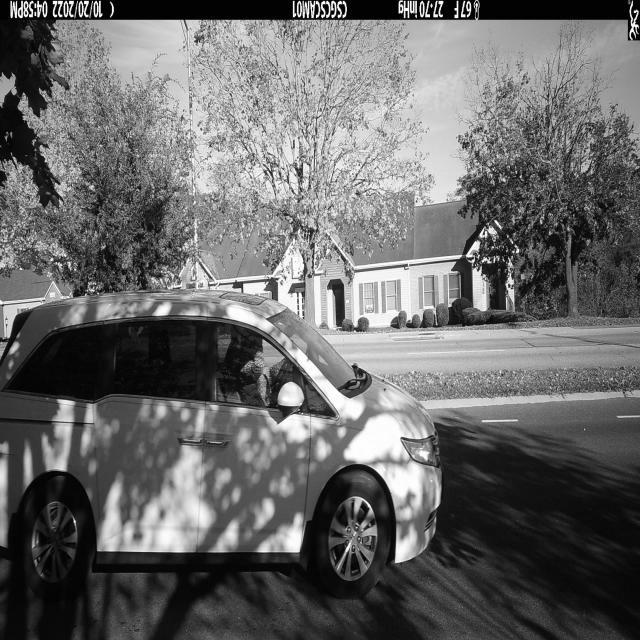Van: (0, 290, 443, 602)
